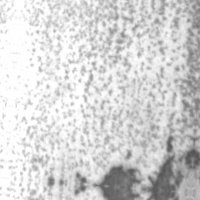patches: (146, 148, 190, 193), (96, 163, 143, 188)
pitted_surface: (10, 0, 199, 177)
